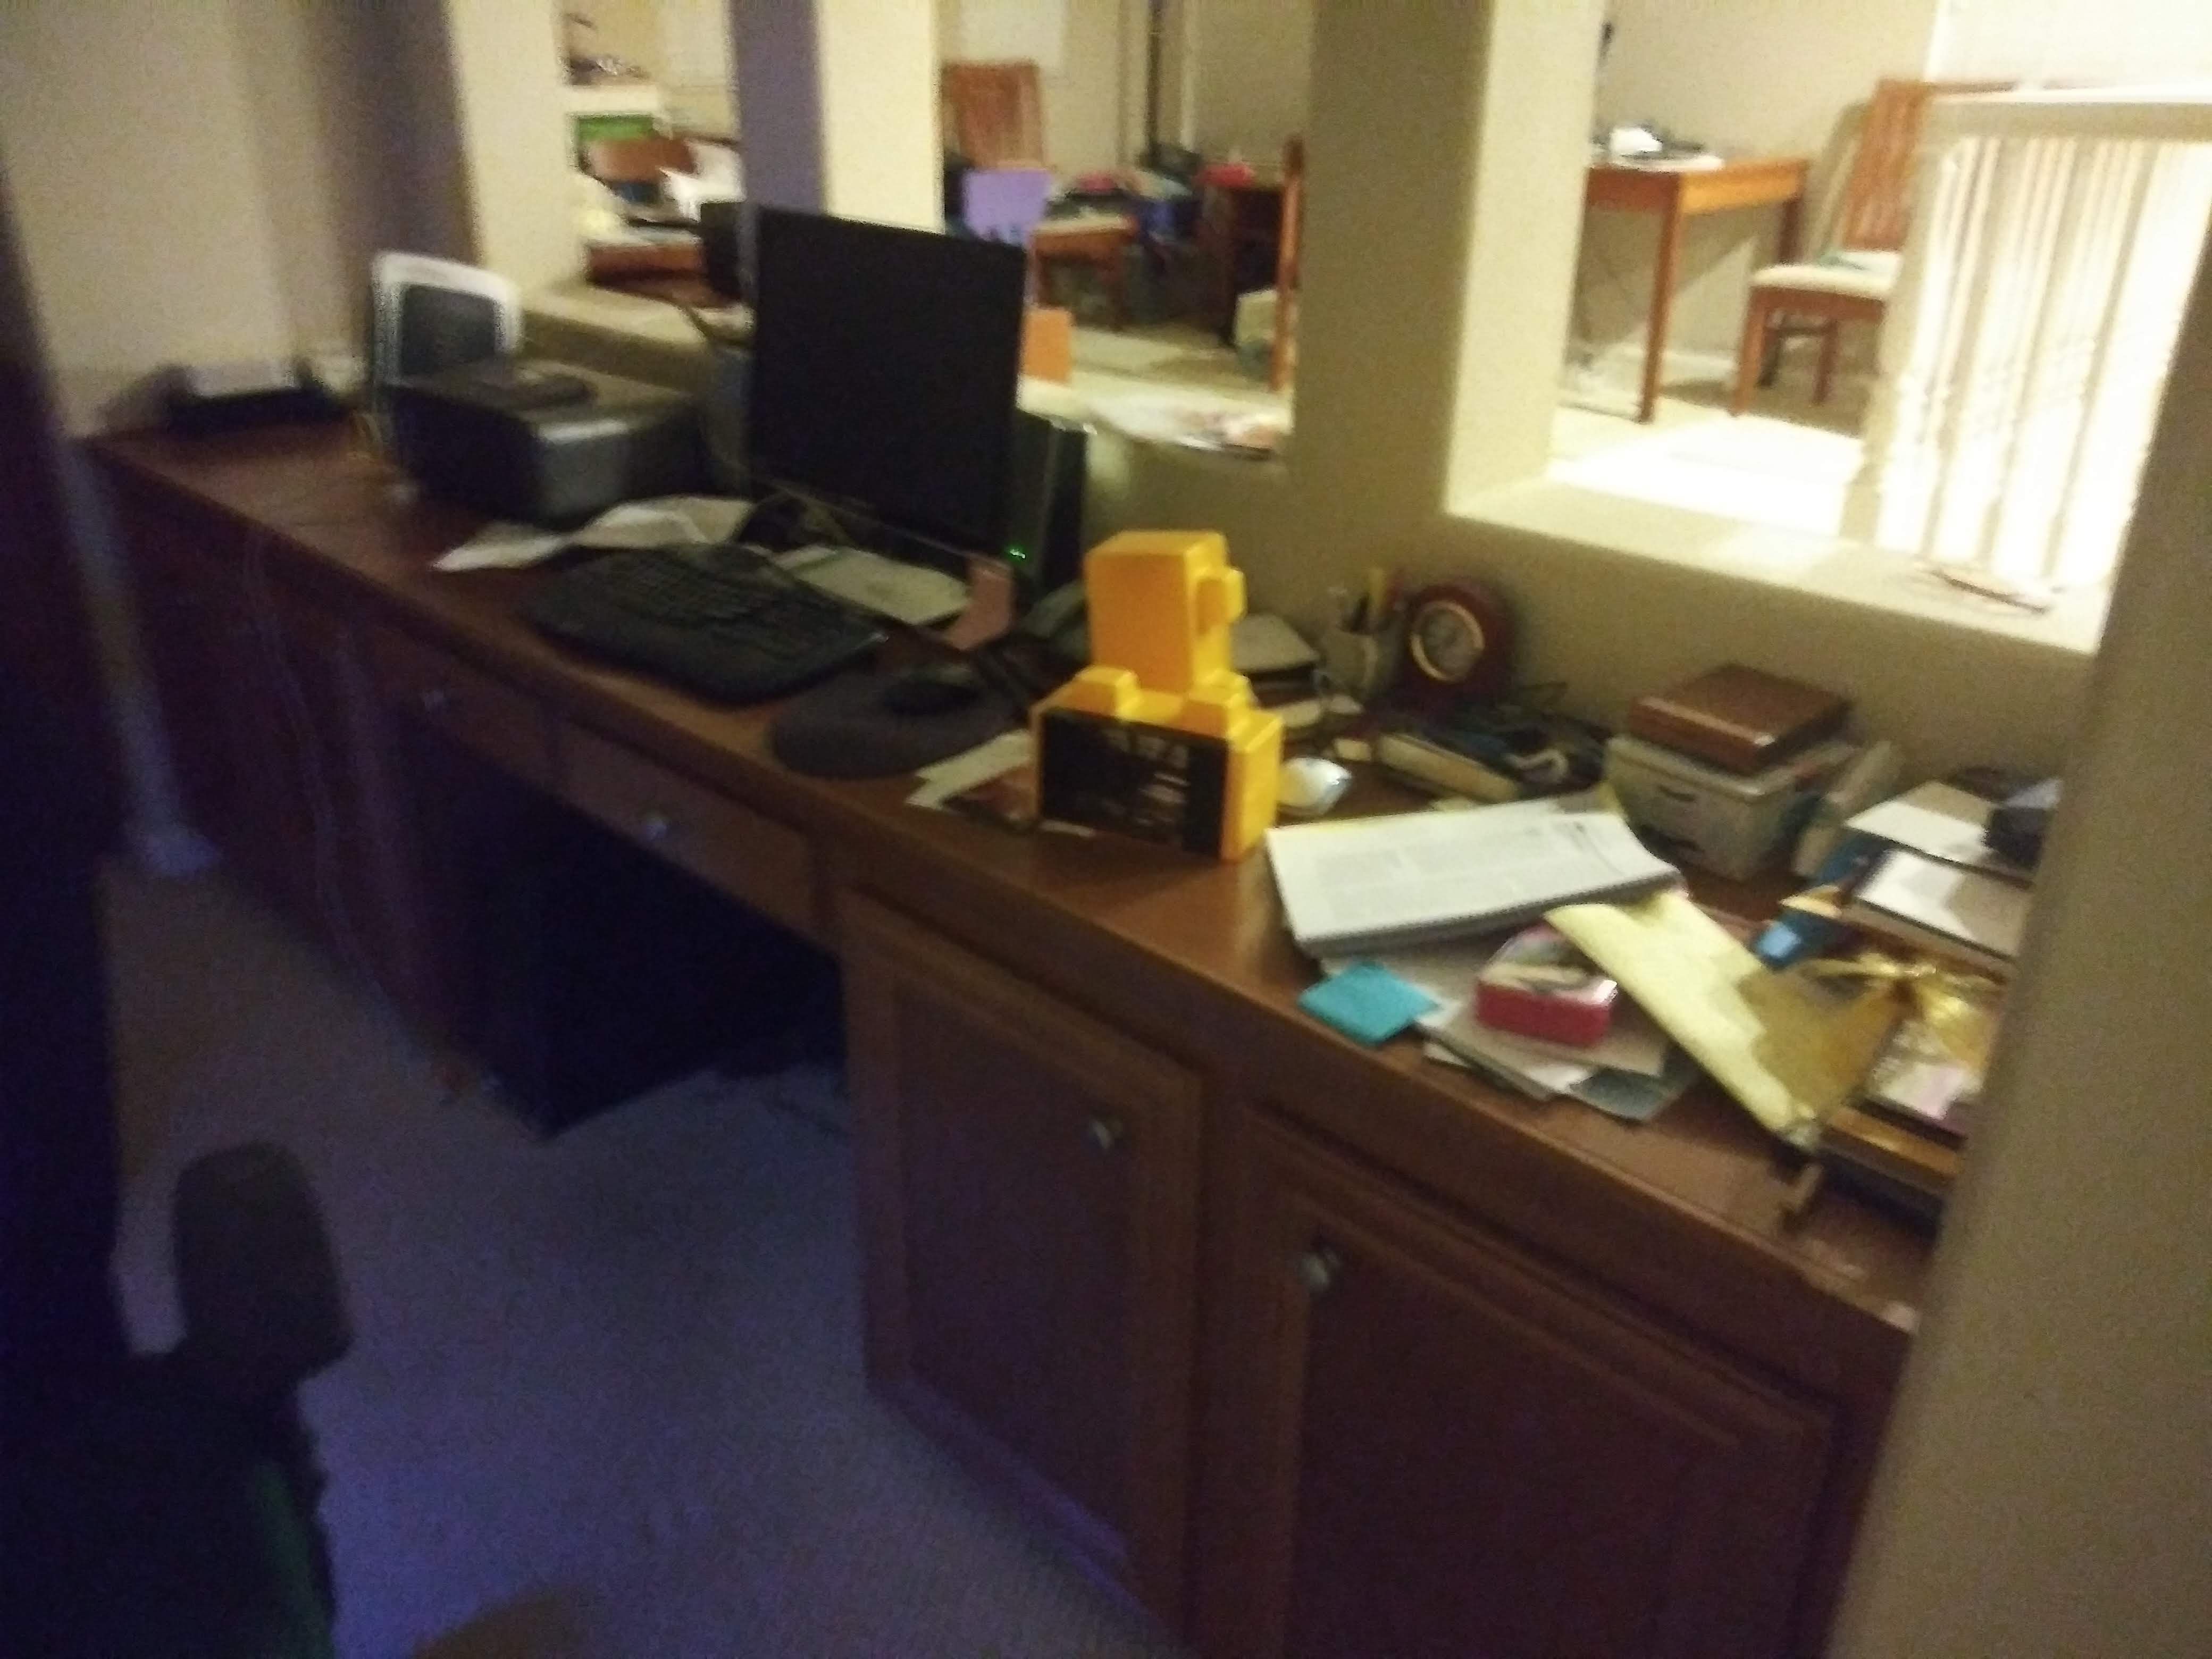skystone: (1040, 688, 1266, 850)
stone: (1082, 535, 1251, 666)
